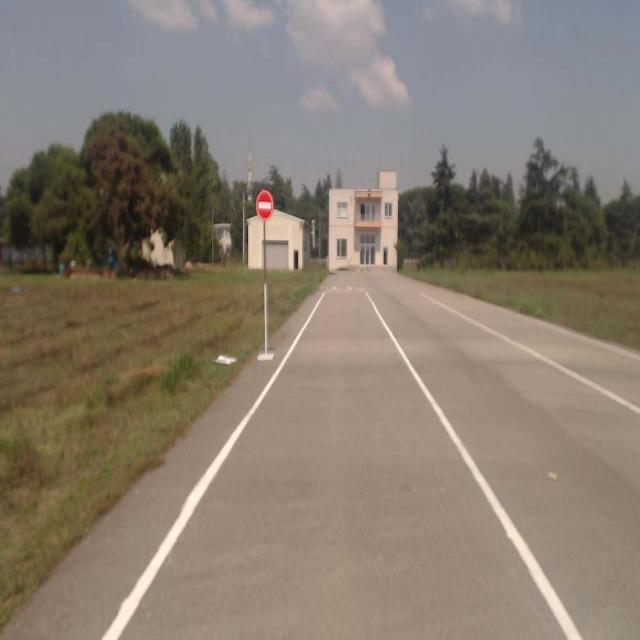girisyok: (255, 190, 273, 220)
